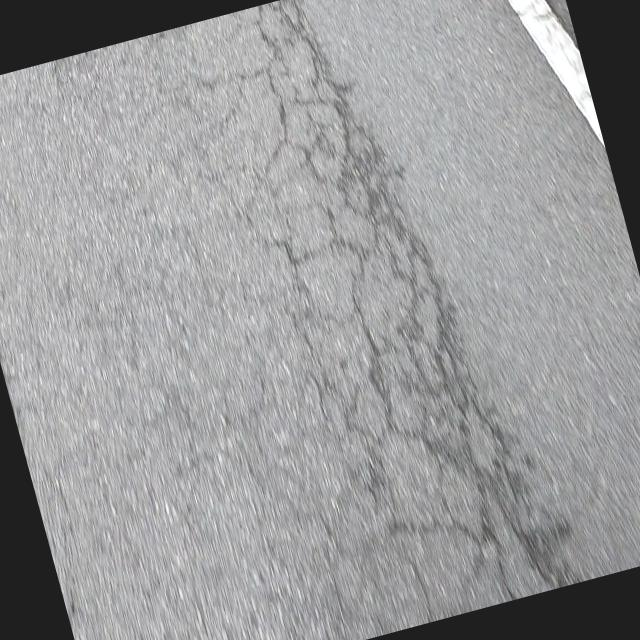Retak-Buaya: (255, 0, 560, 623)
